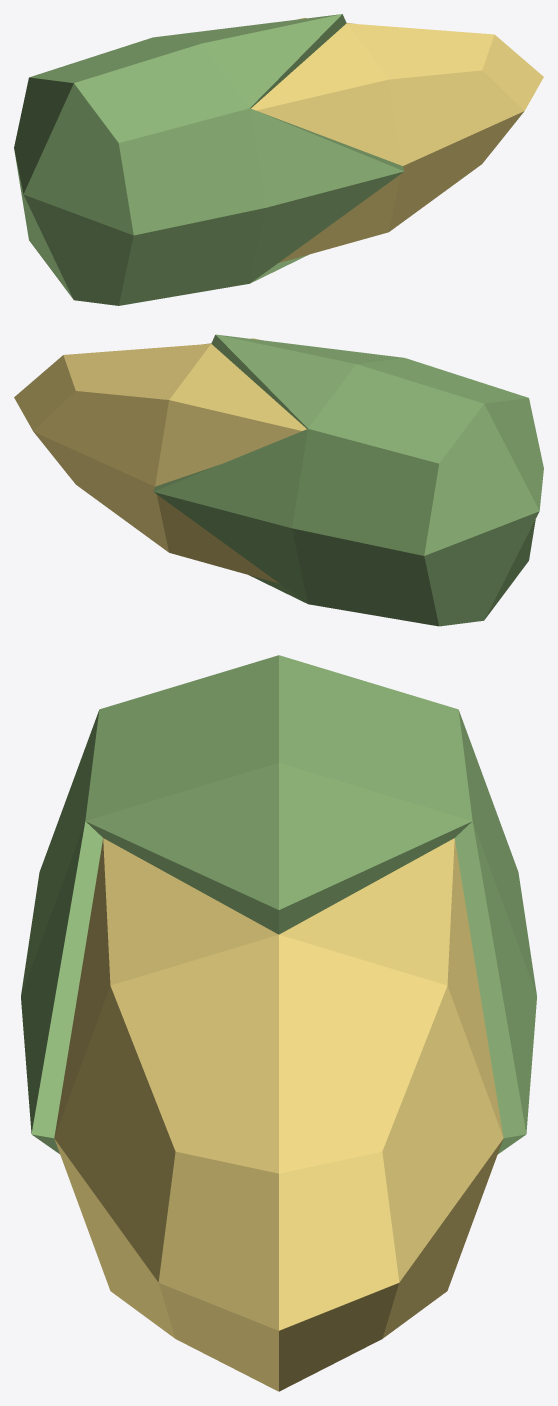
The model's file is corn.glb.
3 views of the same model, one above another, from view 1: azimuth 30°, elevation 25°; view 2: azimuth 150°, elevation 25°; view 3: azimuth 270°, elevation 25° (orthographic). The views are drawn at different scales.
Parts seen in each view (by area): view 1: Corn_Crop; view 2: Corn_Crop; view 3: Corn_Crop.
Part boxes in pixels (x1,y1,x2,y2): Corn_Crop: [14, 14, 543, 305]; Corn_Crop: [14, 334, 543, 626]; Corn_Crop: [21, 655, 536, 1391].
Bounding box in the file's own units: 0.3482 × 0.1488 × 0.1488.
